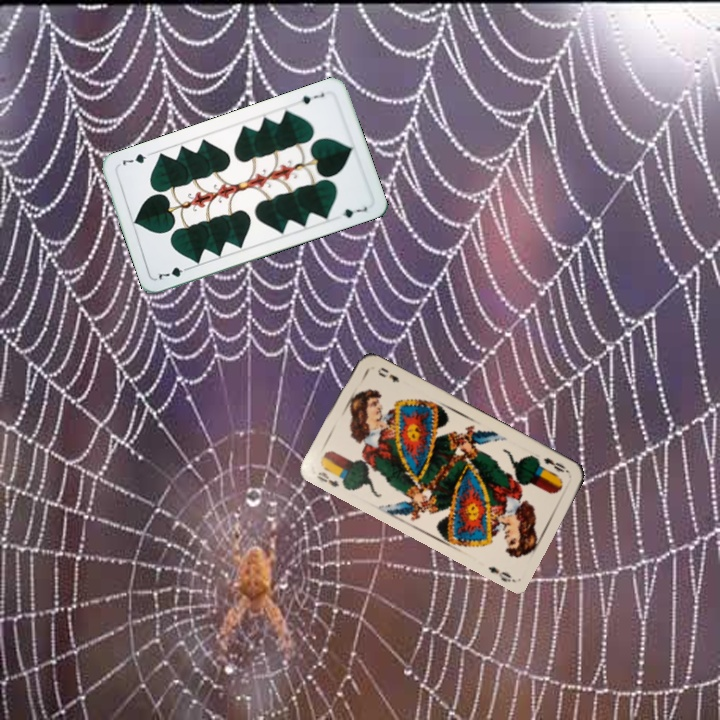EO: (539, 454, 572, 476), (312, 468, 342, 490)
G7: (154, 263, 193, 282), (297, 89, 327, 107)
